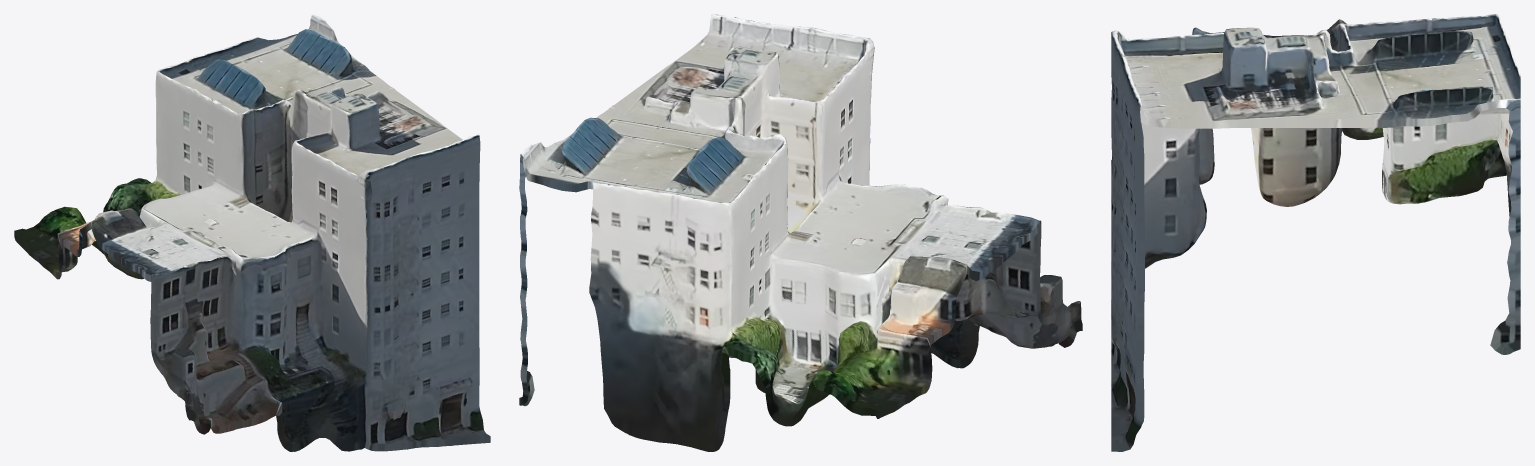
The model's file is z20-167718-405193-h0-yup-uvflip-v3-world.glb.
The picture shows the model from 3 angles, left to right: view 1: azimuth 30°, elevation 25°; view 2: azimuth 150°, elevation 25°; view 3: azimuth 270°, elevation 25°; orthographic projection. The views are drawn at different scales.
Bounding box in the file's own units: 30.16 × 30.56 × 30.32.
1 material, 1 textured.
